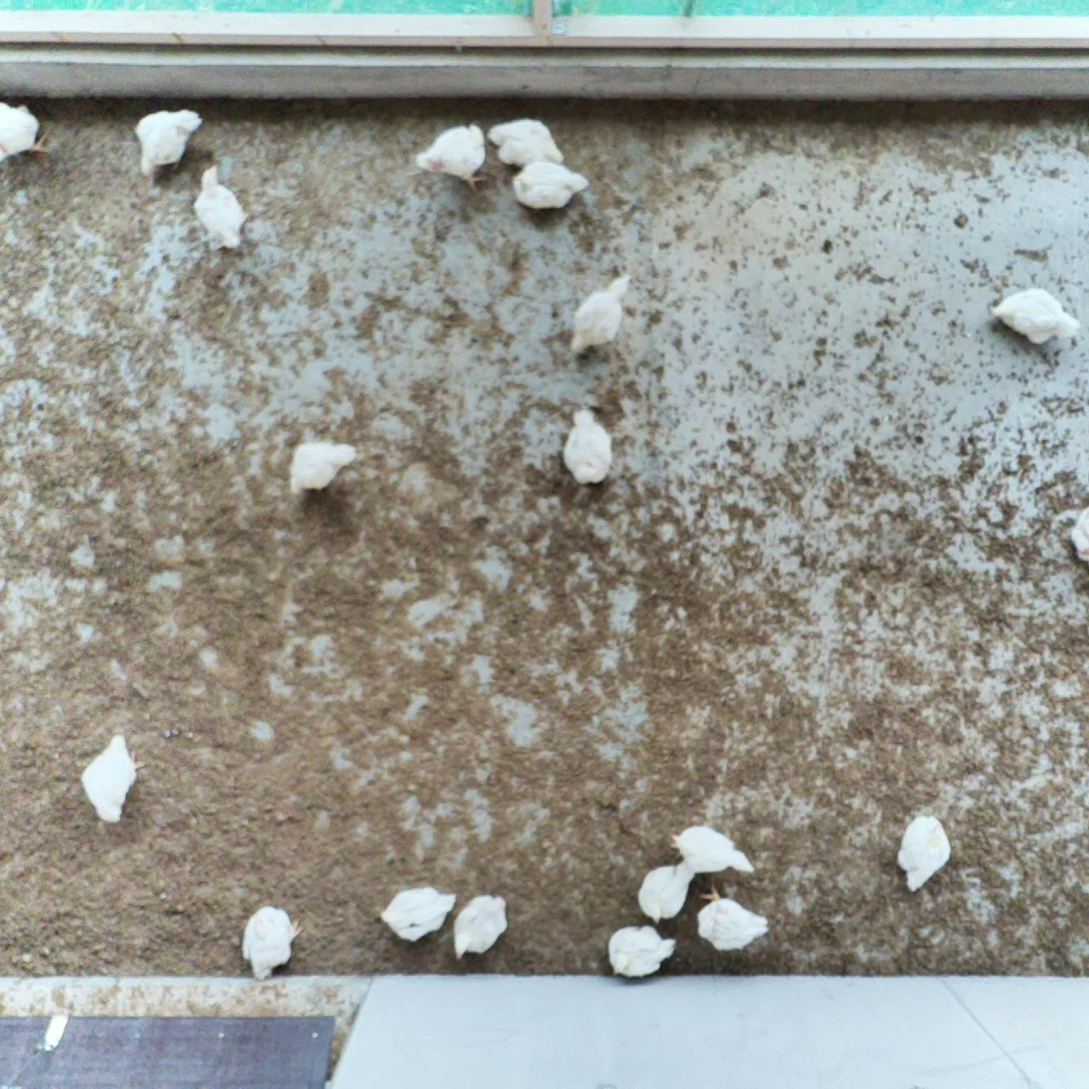chicken: (76, 727, 152, 827), (984, 283, 1085, 351), (191, 160, 257, 259), (412, 120, 493, 200), (567, 271, 636, 360), (668, 815, 758, 883), (130, 103, 204, 183), (692, 884, 773, 957), (235, 901, 305, 985), (284, 435, 362, 506), (375, 882, 457, 946), (558, 401, 617, 489), (893, 811, 954, 896), (479, 116, 572, 168), (508, 158, 591, 215), (450, 892, 511, 965), (605, 922, 678, 980), (636, 859, 698, 927), (0, 98, 54, 168), (1065, 500, 1089, 564)
